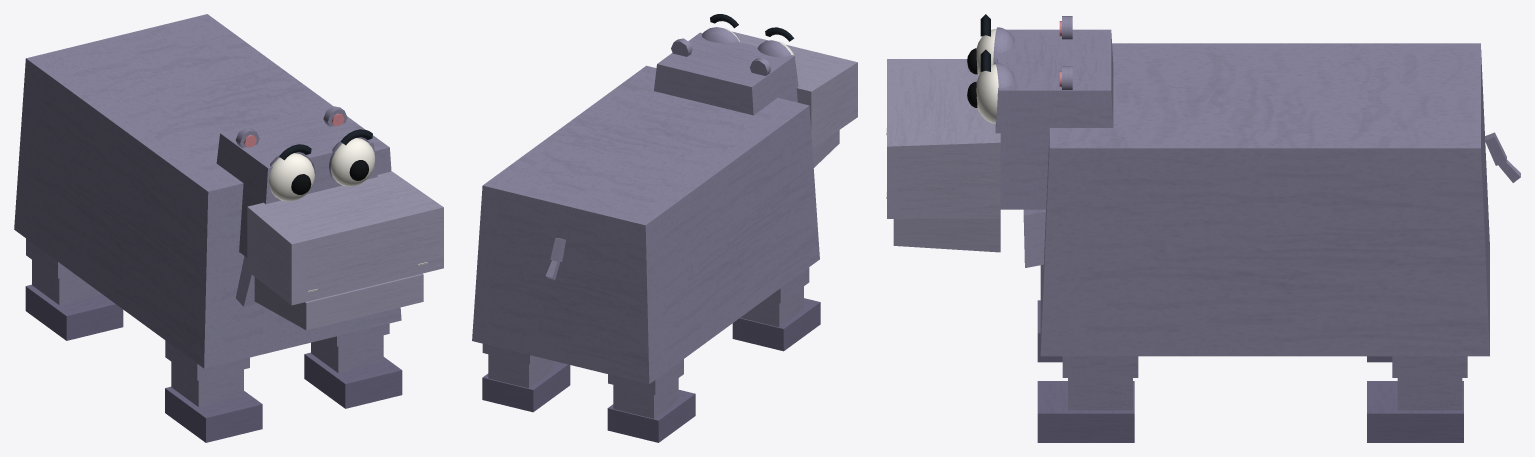
Rendered from hippo.glb.
3 views of the same model, side by side, from view 1: azimuth 30°, elevation 25°; view 2: azimuth 150°, elevation 25°; view 3: azimuth 270°, elevation 25° (orthographic). The views are drawn at different scales.
Parts seen in each view (by area): view 1: body, head, kneeFR, kneeFL, kneeBR, jaw, legFR, legBR, legFL, neck; view 2: body, head, kneeBR, kneeBL, kneeFR, legBR, legFR, legBL, jaw; view 3: body, head, kneeFL, kneeBL, jaw, legFL, legBL, neck.
Boxes of the visible parts, left/top/right/bottom form: body: left=14, top=14, right=401, bottom=368; head: left=216, top=107, right=443, bottom=305; kneeFR: left=165, top=362, right=262, bottom=442; kneeFL: left=304, top=335, right=402, bottom=408; kneeBR: left=25, top=260, right=123, bottom=340; jaw: left=254, top=273, right=423, bottom=330; legFR: left=165, top=340, right=249, bottom=380; legBR: left=26, top=238, right=74, bottom=278; legFL: left=327, top=323, right=389, bottom=346; neck: left=236, top=256, right=257, bottom=306; body: left=472, top=65, right=819, bottom=384; head: left=654, top=14, right=857, bottom=148; kneeBR: left=607, top=378, right=695, bottom=442; kneeBL: left=482, top=354, right=570, bottom=412; kneeFR: left=732, top=286, right=820, bottom=351; legBR: left=608, top=359, right=683, bottom=394; legFR: left=765, top=267, right=809, bottom=303; legBL: left=482, top=343, right=539, bottom=364; jaw: left=812, top=130, right=839, bottom=167; body: left=1040, top=43, right=1489, bottom=356; head: left=886, top=14, right=1113, bottom=218; kneeFL: left=1037, top=378, right=1134, bottom=442; kneeBL: left=1367, top=378, right=1463, bottom=442; jaw: left=893, top=218, right=1000, bottom=252; legFL: left=1062, top=356, right=1138, bottom=377; legBL: left=1392, top=356, right=1467, bottom=377; neck: left=1023, top=209, right=1045, bottom=267.
Bounding box in the file's own units: 0.9 × 1.3 × 2.12.
Materials: 19 (16 with a texture image).
